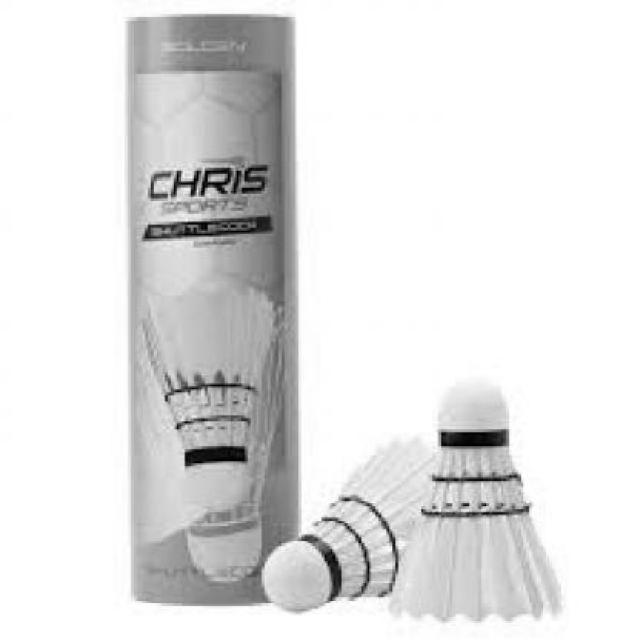Shuttlecock: (391, 377, 566, 620), (262, 437, 452, 609)
